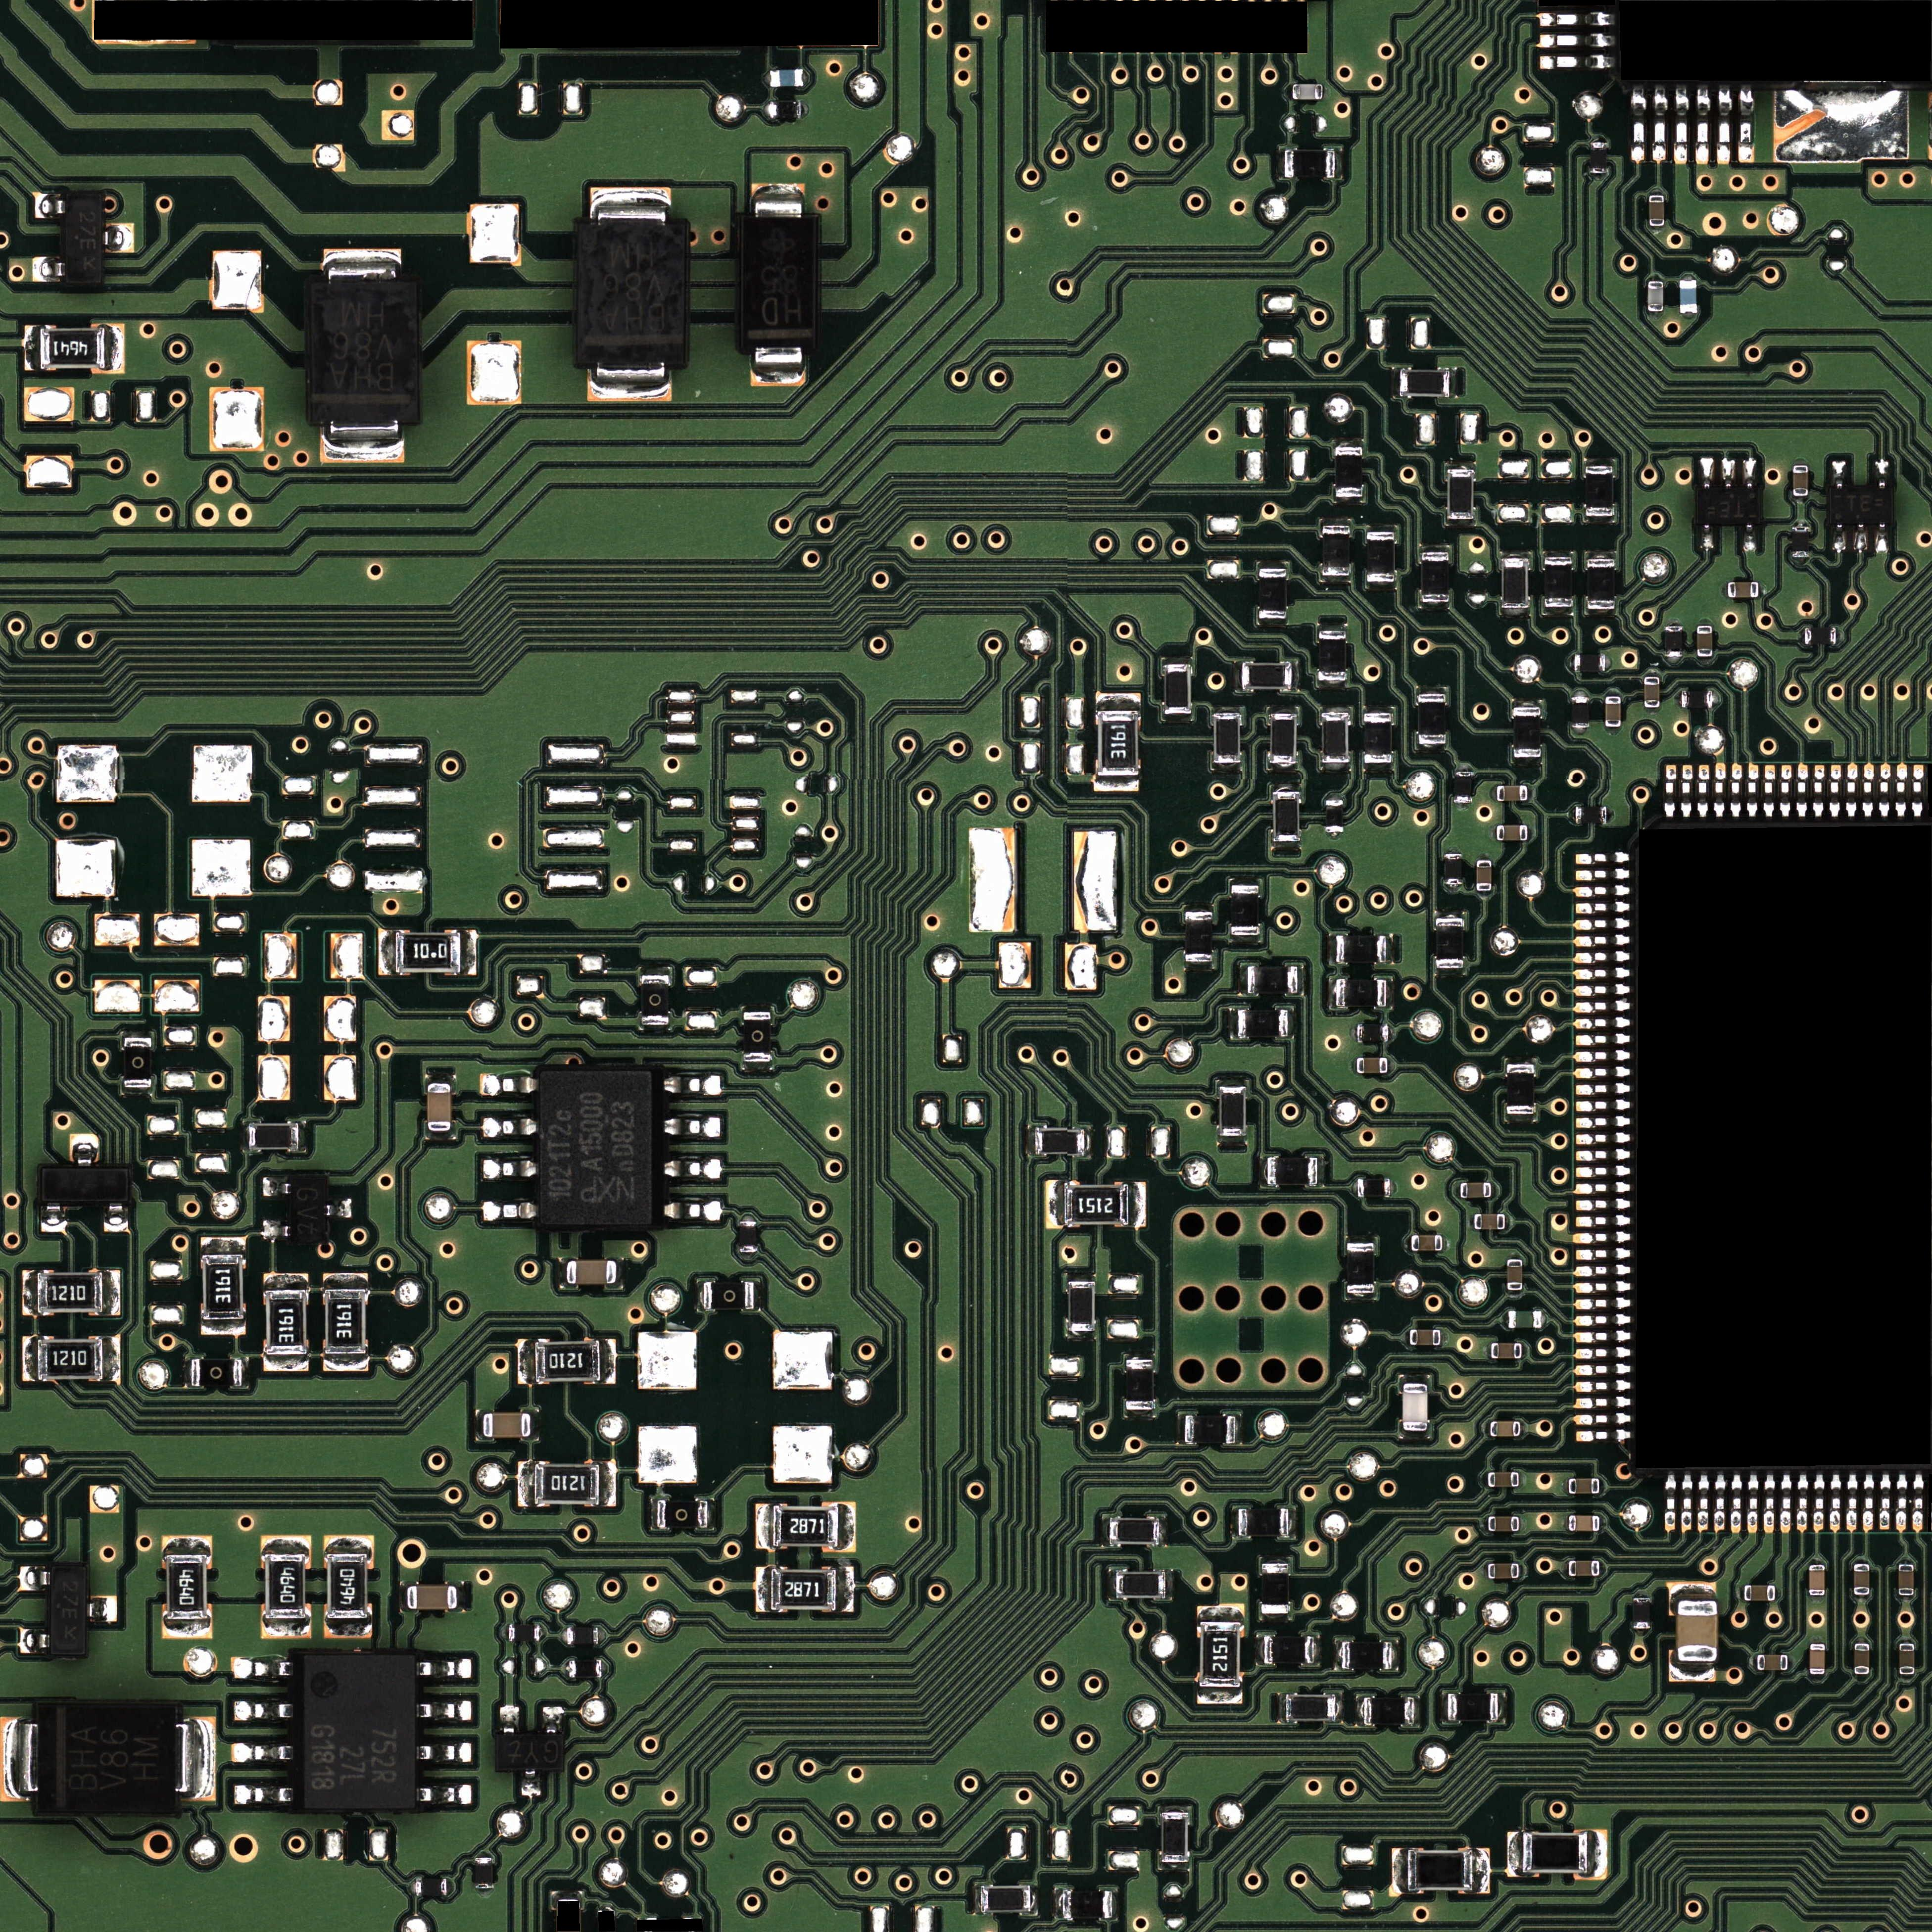Package: (539, 1071, 653, 1226), (304, 1655, 415, 1810), (574, 221, 688, 365), (306, 279, 420, 423), (37, 1704, 174, 1813), (742, 219, 815, 347), (65, 193, 103, 286), (49, 1565, 88, 1655), (42, 1166, 130, 1204), (1199, 1621, 1241, 1688), (165, 1555, 208, 1619), (264, 1553, 306, 1619), (202, 1254, 243, 1320), (1097, 710, 1138, 776), (395, 932, 461, 973), (771, 1569, 836, 1610), (327, 1553, 368, 1619), (265, 1290, 306, 1355), (535, 1341, 600, 1382), (38, 1272, 102, 1313), (325, 1289, 365, 1354), (773, 1505, 838, 1546), (534, 1464, 599, 1504), (38, 1339, 102, 1380), (40, 328, 104, 368), (1065, 1184, 1128, 1225), (1408, 1850, 1472, 1890), (1676, 1600, 1717, 1661), (1523, 1833, 1587, 1872), (289, 1176, 327, 1242), (496, 1734, 564, 1770), (1696, 487, 1760, 524), (1829, 487, 1893, 523), (704, 1281, 754, 1309), (1448, 1692, 1497, 1721), (1285, 149, 1335, 178), (1239, 1508, 1288, 1537), (1231, 885, 1259, 934), (1268, 1156, 1316, 1185), (1587, 559, 1615, 609), (1248, 966, 1297, 994), (658, 1500, 708, 1528), (1367, 532, 1395, 581), (1318, 630, 1346, 680), (1421, 552, 1449, 602), (1336, 935, 1386, 963), (1125, 1359, 1153, 1409), (641, 975, 669, 1024), (1544, 558, 1572, 607), (1337, 979, 1385, 1007), (1343, 1642, 1391, 1670), (743, 1012, 771, 1061), (1335, 447, 1363, 496), (1586, 467, 1613, 516), (1436, 918, 1463, 967), (1063, 1890, 1111, 1918), (1239, 1010, 1288, 1037), (1186, 1415, 1235, 1443), (1364, 1697, 1413, 1725), (1506, 1064, 1534, 1113), (1513, 707, 1541, 757), (1259, 569, 1286, 618), (1261, 1563, 1289, 1613), (1346, 1244, 1374, 1292), (124, 1038, 151, 1087), (1322, 526, 1350, 575), (1364, 714, 1392, 763), (192, 1359, 241, 1386), (1418, 694, 1445, 743), (1185, 912, 1212, 961), (1264, 1636, 1312, 1663), (1214, 714, 1240, 763), (1243, 663, 1292, 689), (1164, 665, 1190, 714), (1400, 370, 1449, 396), (1116, 1572, 1165, 1597), (249, 1124, 298, 1149), (981, 1886, 1030, 1912), (1448, 470, 1473, 519), (1274, 792, 1299, 841), (1271, 714, 1296, 763), (1219, 1087, 1245, 1136), (1162, 1813, 1187, 1862), (1111, 1518, 1159, 1544), (1036, 1129, 1084, 1155), (1323, 713, 1348, 763), (1286, 1694, 1335, 1720), (1502, 559, 1527, 608), (1069, 1281, 1094, 1330), (408, 1585, 456, 1609), (567, 1260, 616, 1284), (483, 1413, 531, 1438), (1402, 1383, 1427, 1430), (428, 1083, 451, 1130), (738, 1221, 758, 1253), (770, 69, 803, 87), (475, 1857, 494, 1888), (1325, 800, 1344, 832), (1357, 1178, 1390, 1197), (1508, 1310, 1542, 1328), (415, 1878, 447, 1896), (1357, 1023, 1388, 1042), (569, 1660, 601, 1678), (1665, 627, 1683, 657), (567, 1627, 598, 1644), (1680, 280, 1697, 313), (509, 1624, 540, 1642), (1682, 690, 1713, 708), (1574, 654, 1605, 672), (1805, 628, 1836, 645), (770, 101, 801, 118), (1792, 527, 1809, 557), (1454, 772, 1472, 803), (1445, 854, 1462, 884), (1590, 142, 1607, 173), (1572, 697, 1588, 728), (1634, 1597, 1650, 1629), (1497, 785, 1528, 801), (1460, 1182, 1491, 1198), (1899, 1643, 1915, 1674), (1474, 1214, 1505, 1230), (1569, 1515, 1599, 1531), (1854, 1564, 1870, 1594), (1854, 1643, 1870, 1674), (1569, 1560, 1599, 1576), (1411, 1235, 1442, 1251), (1576, 808, 1606, 823), (1648, 281, 1664, 311), (1696, 627, 1712, 657), (1809, 1644, 1825, 1674), (1357, 1058, 1387, 1073), (1410, 1329, 1440, 1345), (1809, 1565, 1825, 1595), (1898, 1564, 1914, 1595), (1507, 1259, 1522, 1290), (1757, 1654, 1787, 1670), (1476, 861, 1492, 891), (1644, 677, 1659, 707), (1728, 582, 1758, 597), (1497, 825, 1527, 840), (1605, 696, 1621, 726), (1491, 1343, 1521, 1358), (1744, 1586, 1775, 1601), (1488, 1516, 1518, 1532), (1488, 1563, 1518, 1579), (1488, 1472, 1518, 1487), (1569, 1478, 1599, 1494), (1293, 84, 1322, 99), (1491, 1421, 1520, 1437), (1793, 466, 1808, 496), (1649, 195, 1664, 226)
Solder: (1774, 89, 1909, 161), (174, 1717, 216, 1802), (321, 423, 404, 463), (0, 1716, 36, 1802), (588, 366, 672, 402), (590, 187, 671, 220), (323, 248, 401, 278), (750, 348, 807, 386), (751, 183, 805, 219), (232, 1657, 293, 1679), (664, 1157, 722, 1180), (664, 1199, 722, 1222), (664, 1074, 721, 1096), (480, 1073, 537, 1096), (664, 1115, 721, 1138), (234, 1700, 293, 1721), (1673, 86, 1689, 163), (232, 1743, 293, 1763), (1716, 86, 1732, 162), (1695, 86, 1711, 163), (1652, 84, 1668, 161), (483, 1158, 536, 1180), (1739, 85, 1754, 162), (483, 1116, 536, 1138), (417, 1700, 472, 1721), (235, 1785, 293, 1804), (483, 1201, 537, 1221), (417, 1742, 472, 1763), (417, 1785, 472, 1804), (1540, 12, 1615, 26), (417, 1659, 471, 1678), (1632, 86, 1645, 162), (69, 1133, 100, 1166), (1540, 35, 1616, 48), (1541, 56, 1616, 70), (324, 1619, 373, 1638), (262, 1619, 312, 1638), (163, 1620, 212, 1639), (103, 223, 134, 253), (1046, 1180, 1064, 1228), (261, 1536, 311, 1553), (1588, 1830, 1606, 1878), (162, 1537, 212, 1554), (105, 324, 123, 372), (324, 1536, 373, 1553), (839, 1502, 855, 1552), (32, 256, 64, 282), (103, 1335, 120, 1383), (103, 1270, 121, 1316), (88, 1595, 117, 1622), (756, 1503, 773, 1549), (323, 1354, 369, 1371), (19, 1629, 50, 1654), (19, 1566, 50, 1591), (200, 1237, 246, 1254), (1096, 693, 1141, 710), (1129, 1181, 1146, 1227), (1473, 1848, 1490, 1893), (35, 193, 65, 218), (1392, 1848, 1407, 1895), (263, 1355, 309, 1371), (837, 1566, 853, 1612), (1197, 1605, 1245, 1620), (1197, 1688, 1242, 1704), (263, 1273, 309, 1289), (518, 1339, 534, 1385), (600, 1461, 616, 1507), (379, 930, 394, 975), (518, 1461, 533, 1507), (1672, 1662, 1715, 1679), (323, 1273, 368, 1288), (1672, 1585, 1717, 1600), (24, 325, 40, 370), (201, 1320, 246, 1335), (1094, 776, 1139, 791), (41, 1204, 65, 1232), (461, 929, 476, 975), (601, 1339, 616, 1384), (104, 1204, 128, 1231), (1576, 1380, 1632, 1392), (1575, 1281, 1632, 1293), (1575, 1265, 1631, 1277), (1574, 1182, 1631, 1194), (1574, 984, 1631, 996), (1574, 1017, 1631, 1029), (1573, 903, 1630, 915), (756, 1567, 771, 1612), (1574, 1199, 1630, 1211), (1575, 1050, 1631, 1062), (1576, 1165, 1632, 1177), (1781, 1473, 1791, 1533), (1913, 1473, 1924, 1532), (1507, 1832, 1522, 1877), (1698, 1473, 1709, 1530), (1576, 1397, 1632, 1408), (1575, 1314, 1631, 1326), (1575, 1331, 1631, 1343), (1575, 1347, 1632, 1358), (1575, 1364, 1632, 1375), (1575, 1298, 1632, 1309), (1575, 1249, 1631, 1260), (1574, 1232, 1631, 1244), (1574, 1215, 1631, 1227), (1574, 968, 1631, 979), (1575, 1099, 1632, 1111), (1575, 1116, 1632, 1127), (1573, 853, 1630, 864), (1573, 870, 1630, 881), (1731, 1474, 1742, 1533), (1813, 1474, 1824, 1533), (23, 1270, 37, 1315), (1665, 1474, 1676, 1530), (1576, 1429, 1632, 1441), (1576, 1412, 1632, 1424), (1575, 1001, 1631, 1013), (1575, 1034, 1631, 1046), (1576, 1066, 1632, 1078), (1576, 1083, 1632, 1094), (1576, 1132, 1632, 1143), (1576, 1149, 1632, 1160), (1574, 886, 1630, 897), (1574, 919, 1630, 931), (1574, 936, 1630, 947), (1575, 952, 1631, 964), (23, 1337, 37, 1381), (1864, 1473, 1874, 1533), (1764, 1473, 1774, 1532), (1847, 1473, 1857, 1532), (1896, 1473, 1907, 1532), (1715, 1473, 1726, 1529), (1797, 1474, 1808, 1532), (1664, 765, 1676, 817), (1681, 765, 1692, 817), (1697, 764, 1709, 816), (1714, 765, 1726, 817), (1731, 764, 1742, 816), (1748, 765, 1759, 817), (1764, 764, 1775, 816), (1847, 764, 1858, 816), (1863, 764, 1874, 816), (1880, 764, 1891, 816), (1813, 764, 1825, 816), (1796, 764, 1808, 816), (1895, 764, 1907, 816), (1912, 764, 1924, 816), (499, 1705, 520, 1734), (542, 1706, 563, 1734), (1682, 1474, 1692, 1529), (1747, 1475, 1757, 1532), (1830, 1475, 1840, 1532), (1880, 1473, 1890, 1531), (1781, 765, 1791, 817), (1831, 764, 1841, 816), (521, 1770, 541, 1796), (263, 1220, 290, 1240), (263, 1177, 289, 1197), (327, 1199, 351, 1218), (1721, 458, 1736, 488), (1853, 524, 1868, 552), (1742, 524, 1757, 552), (1700, 457, 1714, 489), (1742, 458, 1756, 488), (1875, 459, 1889, 488), (1875, 524, 1888, 553), (1700, 524, 1715, 551), (1833, 524, 1846, 551), (1832, 461, 1845, 488), (551, 1890, 585, 1899), (1159, 1862, 1190, 1872), (639, 966, 671, 975), (425, 1131, 456, 1140), (742, 1062, 773, 1070), (530, 1410, 539, 1440), (1512, 698, 1542, 707), (1449, 368, 1458, 398), (1158, 1805, 1191, 1813), (1498, 1691, 1506, 1724), (1328, 933, 1336, 965), (1399, 1431, 1430, 1439), (1230, 1008, 1238, 1039), (1101, 1515, 1110, 1546), (1335, 147, 1343, 180), (1583, 516, 1615, 524), (972, 1884, 981, 1914), (1505, 1114, 1536, 1122), (1391, 369, 1400, 397), (1320, 518, 1351, 526), (1159, 1516, 1167, 1546), (426, 1075, 455, 1083), (742, 1004, 772, 1013), (1334, 439, 1364, 447), (1108, 1568, 1116, 1599), (1054, 1887, 1062, 1919), (1584, 458, 1615, 466), (1391, 1639, 1399, 1672), (1184, 903, 1213, 912), (1239, 964, 1247, 995), (1259, 1156, 1267, 1187), (1027, 1125, 1035, 1156), (1335, 1692, 1343, 1723), (1165, 1569, 1173, 1599), (1356, 1695, 1364, 1726), (1446, 519, 1476, 527), (1272, 783, 1301, 792), (1162, 657, 1192, 665), (1400, 1375, 1430, 1383), (1278, 1692, 1286, 1723), (1505, 1057, 1536, 1064), (1366, 524, 1396, 532), (1257, 561, 1287, 569), (1212, 706, 1242, 714), (1441, 1692, 1448, 1724), (1500, 551, 1530, 559), (476, 1410, 483, 1441), (1277, 148, 1285, 180), (1216, 1079, 1248, 1087), (753, 1281, 761, 1310), (1230, 877, 1259, 885), (1346, 1236, 1375, 1244), (1084, 1128, 1092, 1157), (1125, 1410, 1155, 1418), (1446, 462, 1475, 470), (1068, 1331, 1095, 1339), (707, 1498, 715, 1529), (1230, 935, 1260, 943), (1177, 1413, 1185, 1444), (1585, 552, 1616, 560), (122, 1087, 151, 1095), (298, 1121, 306, 1152), (650, 1499, 658, 1529), (1386, 934, 1393, 964), (1346, 1293, 1376, 1300), (1257, 1635, 1264, 1665), (1289, 1507, 1296, 1539), (1413, 1695, 1420, 1728), (400, 1582, 407, 1612), (696, 1281, 704, 1310), (1211, 763, 1241, 771), (1235, 661, 1242, 691), (1268, 763, 1298, 771), (1420, 602, 1449, 610), (1363, 706, 1393, 714), (1335, 1640, 1342, 1670), (1030, 1884, 1038, 1914), (1512, 757, 1542, 765), (1321, 763, 1349, 771), (1420, 545, 1449, 552), (1417, 687, 1447, 694), (1125, 1352, 1154, 1360), (1544, 607, 1573, 615), (1436, 911, 1465, 918), (1317, 1156, 1324, 1187), (123, 1030, 151, 1038), (457, 1582, 464, 1611), (1258, 619, 1287, 626), (1292, 661, 1299, 690), (1163, 714, 1192, 721), (1364, 763, 1393, 771), (1318, 624, 1347, 631), (1269, 707, 1298, 714), (1184, 962, 1213, 969), (1217, 1136, 1246, 1144), (560, 1259, 567, 1287), (1067, 1274, 1095, 1281), (1287, 1008, 1294, 1038), (1313, 1635, 1320, 1665), (1111, 1889, 1118, 1919), (1334, 497, 1363, 504), (1272, 841, 1300, 849), (1417, 744, 1447, 751), (1366, 582, 1396, 589), (1297, 965, 1304, 995), (1260, 1556, 1290, 1563), (1386, 978, 1393, 1010), (640, 1024, 670, 1031), (1321, 576, 1351, 582), (1260, 1613, 1290, 1620), (1232, 1507, 1239, 1537), (1435, 968, 1464, 975), (241, 1358, 248, 1387), (1501, 608, 1528, 616), (1329, 978, 1336, 1009), (1318, 680, 1346, 687), (1235, 1414, 1242, 1444), (1544, 552, 1574, 558), (185, 1357, 191, 1387), (616, 1259, 623, 1286), (1585, 609, 1615, 615), (1322, 706, 1349, 713), (1324, 832, 1345, 840), (242, 1123, 249, 1150), (475, 1889, 494, 1897), (447, 1878, 455, 1897), (1589, 173, 1608, 181), (1284, 84, 1293, 100), (1606, 806, 1615, 824), (739, 1213, 757, 1221), (500, 1624, 508, 1642), (1680, 313, 1697, 321), (1647, 312, 1664, 320), (1483, 1343, 1491, 1359), (1561, 1515, 1569, 1531), (1322, 84, 1330, 101), (1349, 1024, 1357, 1042), (1712, 690, 1720, 707), (598, 1627, 606, 1644), (1387, 1058, 1396, 1073), (1792, 457, 1809, 465), (1566, 654, 1574, 671), (1604, 727, 1621, 735), (1665, 619, 1682, 627), (1561, 1560, 1569, 1577), (1599, 1560, 1607, 1577), (1809, 1636, 1825, 1644), (1809, 1675, 1826, 1683), (476, 1850, 493, 1858), (1836, 628, 1843, 645), (1501, 1310, 1509, 1328), (1325, 793, 1344, 800), (801, 102, 809, 118), (1648, 188, 1665, 195), (1599, 1478, 1607, 1495), (1480, 1563, 1488, 1579), (1749, 1654, 1757, 1671), (1401, 1330, 1410, 1346), (540, 1624, 547, 1642), (1590, 135, 1607, 142), (1674, 690, 1682, 708), (1454, 803, 1471, 810), (1792, 558, 1810, 565), (1404, 1236, 1412, 1252), (1442, 1235, 1450, 1251), (1797, 628, 1805, 644), (1489, 825, 1497, 841), (1441, 1330, 1449, 1346), (1483, 1421, 1491, 1437), (1561, 1478, 1569, 1494), (1599, 1515, 1607, 1531), (1519, 1472, 1527, 1488), (1480, 1472, 1488, 1488), (1390, 1179, 1398, 1196), (1445, 847, 1461, 854), (1568, 807, 1575, 823), (1853, 1595, 1870, 1602), (1633, 1629, 1650, 1637), (1809, 1595, 1826, 1603), (1808, 1557, 1825, 1565), (739, 1253, 757, 1259), (1388, 1024, 1395, 1042), (1455, 765, 1473, 772), (1758, 582, 1766, 598), (1605, 655, 1613, 671), (1491, 1183, 1499, 1198), (1519, 1516, 1527, 1532), (1480, 1516, 1488, 1532), (763, 71, 770, 87), (1572, 689, 1588, 697), (1572, 728, 1588, 735), (1853, 1675, 1870, 1682), (1898, 1674, 1915, 1682), (1787, 1654, 1795, 1671), (602, 1660, 609, 1677), (562, 1660, 569, 1678), (1633, 1591, 1650, 1597), (1649, 226, 1665, 234), (1792, 496, 1808, 504), (1697, 656, 1713, 664), (1697, 619, 1713, 626), (1490, 785, 1497, 801), (1506, 1252, 1522, 1259), (1521, 1343, 1529, 1359), (1737, 1585, 1744, 1601), (763, 101, 770, 118), (1680, 273, 1696, 280), (1665, 657, 1682, 664), (1445, 885, 1462, 892), (1898, 1595, 1915, 1602), (1721, 582, 1728, 598), (1527, 825, 1535, 840), (1527, 785, 1535, 801), (1519, 1563, 1526, 1579), (1854, 1636, 1869, 1643), (1351, 1179, 1358, 1196), (1647, 274, 1664, 281), (1476, 891, 1492, 898), (1793, 520, 1809, 527), (1350, 1058, 1357, 1073), (1520, 1422, 1528, 1437), (1644, 670, 1660, 677), (1505, 1214, 1512, 1230), (1899, 1637, 1915, 1643), (803, 70, 810, 87), (560, 1628, 567, 1644), (1506, 1290, 1523, 1297), (1476, 853, 1492, 860), (1605, 689, 1621, 696), (1644, 707, 1660, 714), (1775, 1586, 1782, 1601), (409, 1879, 415, 1896), (1541, 1311, 1547, 1328), (1898, 1558, 1914, 1564), (1468, 1214, 1474, 1230), (597, 1904, 614, 1910), (1454, 1183, 1460, 1198), (1853, 1558, 1870, 1564), (21, 1453, 46, 1457)
